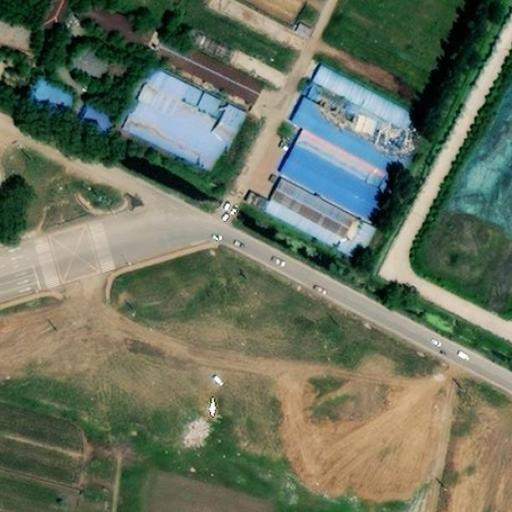building: (129, 79, 249, 184), (289, 111, 409, 204), (144, 43, 264, 121), (309, 82, 420, 161), (282, 159, 389, 236), (268, 193, 373, 271), (179, 17, 284, 81), (79, 13, 158, 68), (33, 88, 82, 132), (17, 0, 81, 24), (78, 115, 116, 154), (289, 15, 313, 38)
